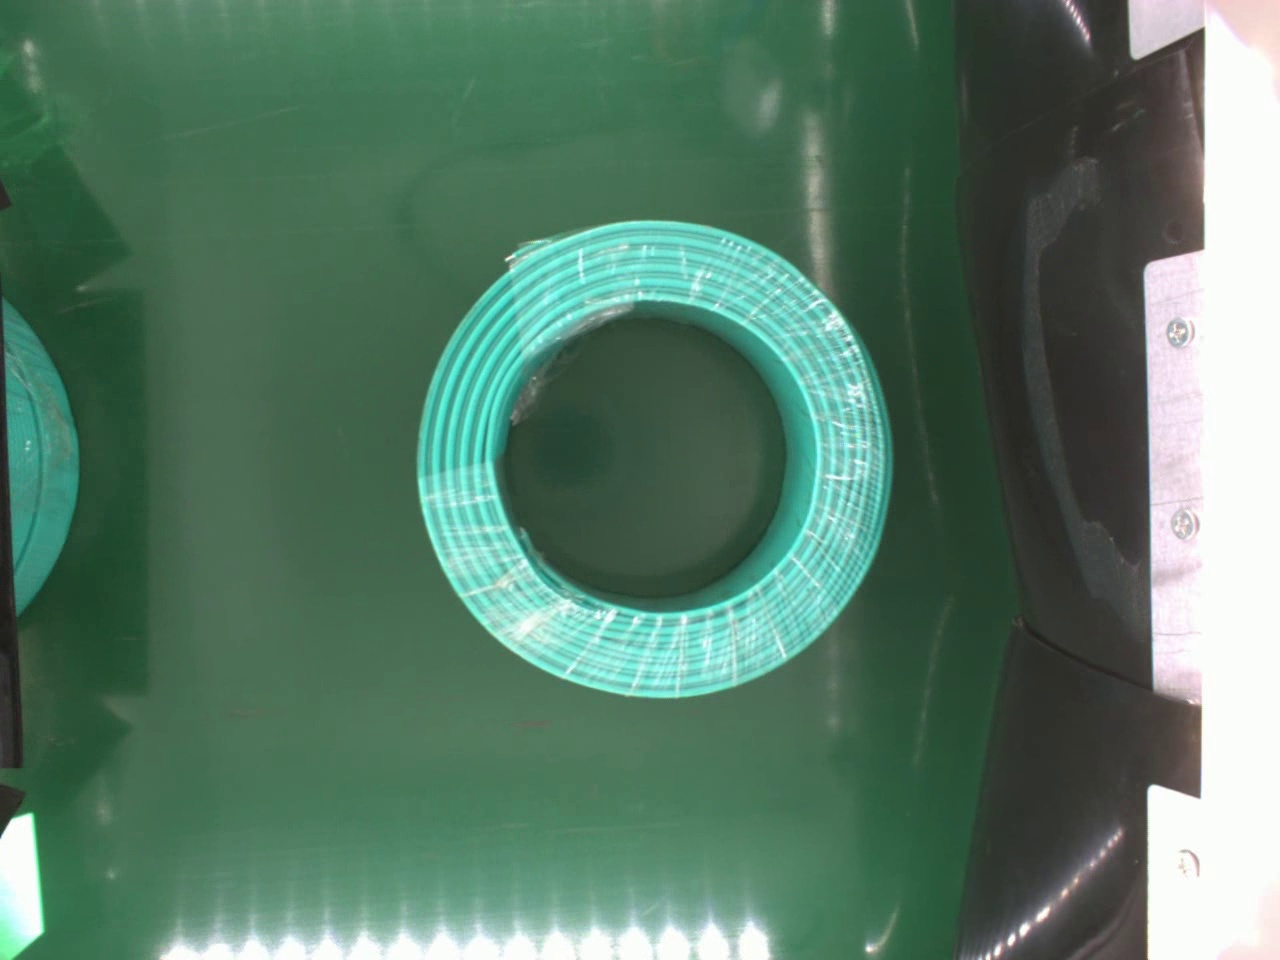green: (411, 216, 896, 697)
